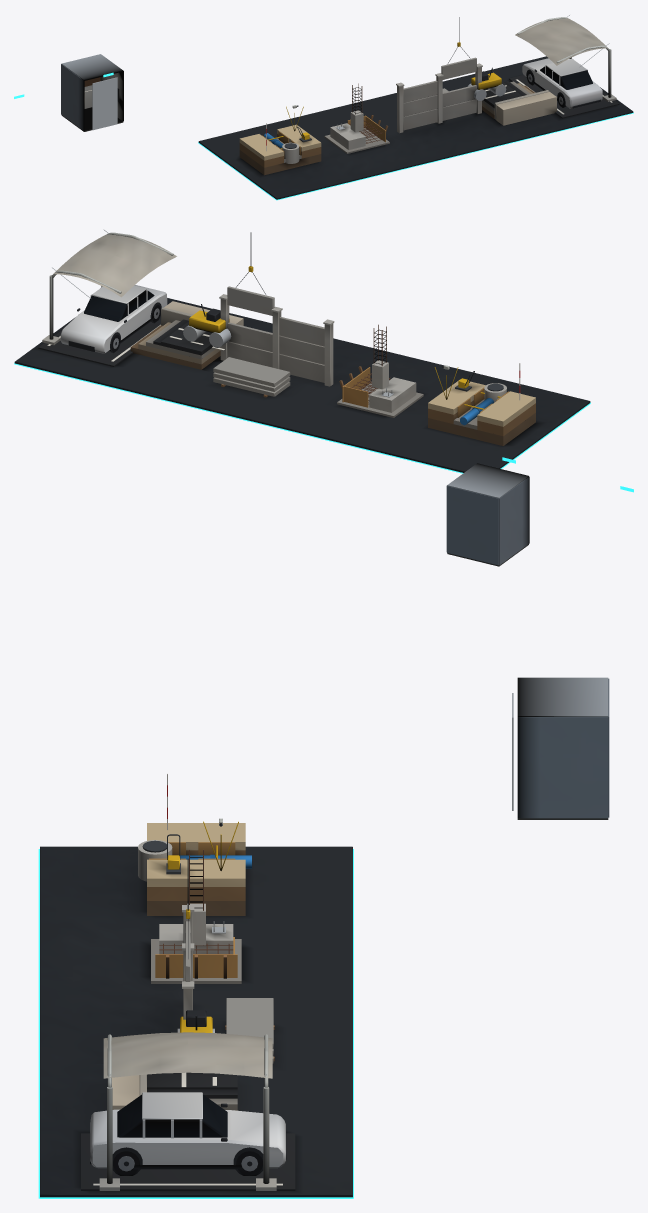
The model's file is ex_civil.glb.
3 views of the same model, one above another, from view 1: azimuth 30°, elevation 25°; view 2: azimuth 150°, elevation 25°; view 3: azimuth 270°, elevation 25° (orthographic). The views are drawn at different scales.
Visible parts, largest first — view 1: static.plinth, static.concrete, static.shade_fabric, static.conc_fresh, static.car_pearl, lift_cabin.steel, static.paving, static.sand, static.asph_layer, lift_cabin.white, static.soil_b, liftDoorL.steel (+12 smaller); view 2: static.plinth, static.concrete, lift_cabin.steel, static.shade_fabric, static.conc_fresh, static.car_pearl, static.asph_layer, static.sand, static.soil_b, lift_cabin.white, static.gravel, static.formply (+10 smaller); view 3: static.plinth, lift_cabin.steel, static.car_pearl, static.shade_fabric, static.asph_layer, static.sand, static.conc_fresh, lift_cabin.white, static.glass_dark, static.formply, static.concrete, static.paint_ral (+5 smaller).
Part boxes in pixels (x1,y1,x2,y2): static.plinth: (198, 56, 633, 199); static.concrete: (403, 80, 476, 130); static.shade_fabric: (515, 18, 608, 65); static.conc_fresh: (282, 63, 616, 163); static.car_pearl: (522, 58, 602, 108); lift_cabin.steel: (61, 64, 123, 130); static.paving: (496, 92, 556, 125); static.sand: (239, 124, 321, 160); static.asph_layer: (483, 75, 619, 118); lift_cabin.white: (62, 54, 123, 80); static.soil_b: (239, 85, 534, 175); liftDoorL.steel: (92, 80, 105, 130); static.plinth: (14, 298, 590, 472); static.concrete: (213, 317, 324, 396); lift_cabin.steel: (446, 476, 529, 565); static.shade_fabric: (53, 234, 176, 297); static.conc_fresh: (42, 294, 506, 412); static.car_pearl: (60, 285, 167, 353); static.asph_layer: (38, 315, 212, 366); static.sand: (428, 379, 535, 426); static.soil_b: (130, 325, 535, 445); lift_cabin.white: (447, 463, 528, 498); static.gravel: (146, 320, 484, 429); static.formply: (342, 367, 508, 417); static.plinth: (40, 846, 352, 1197); lift_cabin.steel: (517, 678, 609, 818); static.car_pearl: (90, 1092, 285, 1168); static.shade_fabric: (103, 1032, 272, 1078); static.asph_layer: (81, 1072, 295, 1190); static.sand: (147, 823, 245, 886); static.conc_fresh: (99, 840, 276, 1190); lift_cabin.white: (517, 677, 608, 716); static.glass_dark: (117, 1094, 227, 1137); static.formply: (149, 842, 237, 977); static.concrete: (185, 921, 273, 1063); static.paint_ral: (107, 818, 269, 1183).
Size of the model in its own units: 28.32 by 5.58 by 13.85.
